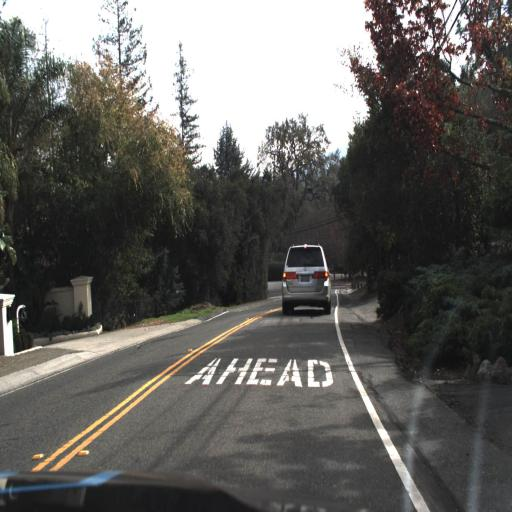car: (270, 241, 341, 318)
